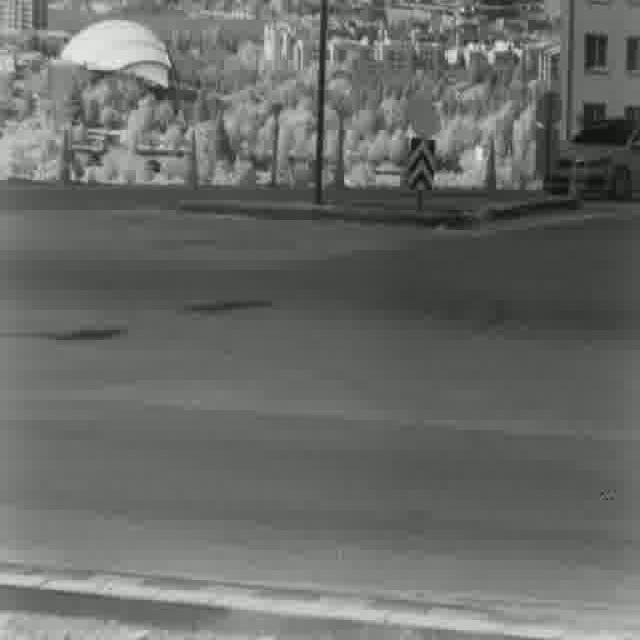Car: (542, 117, 640, 198)
